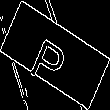P_NE: (33, 24, 77, 86)
